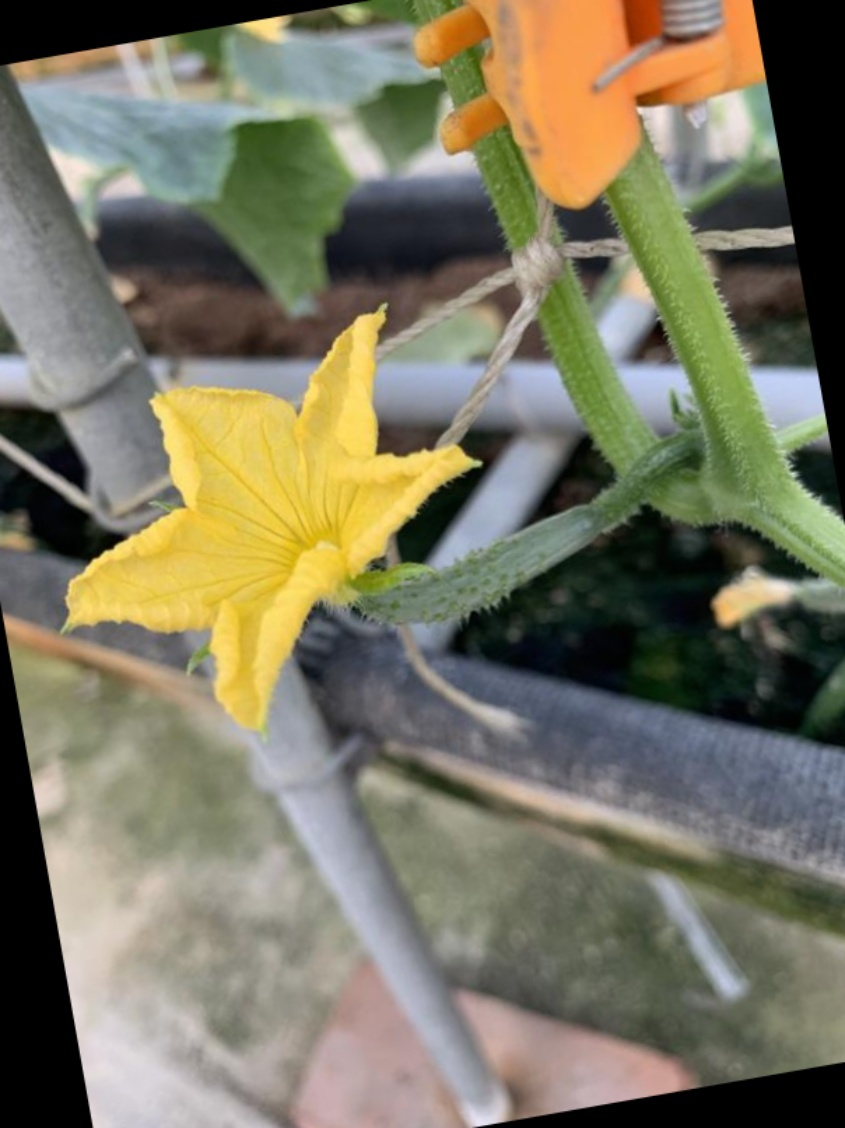flowering: (73, 284, 641, 700)
